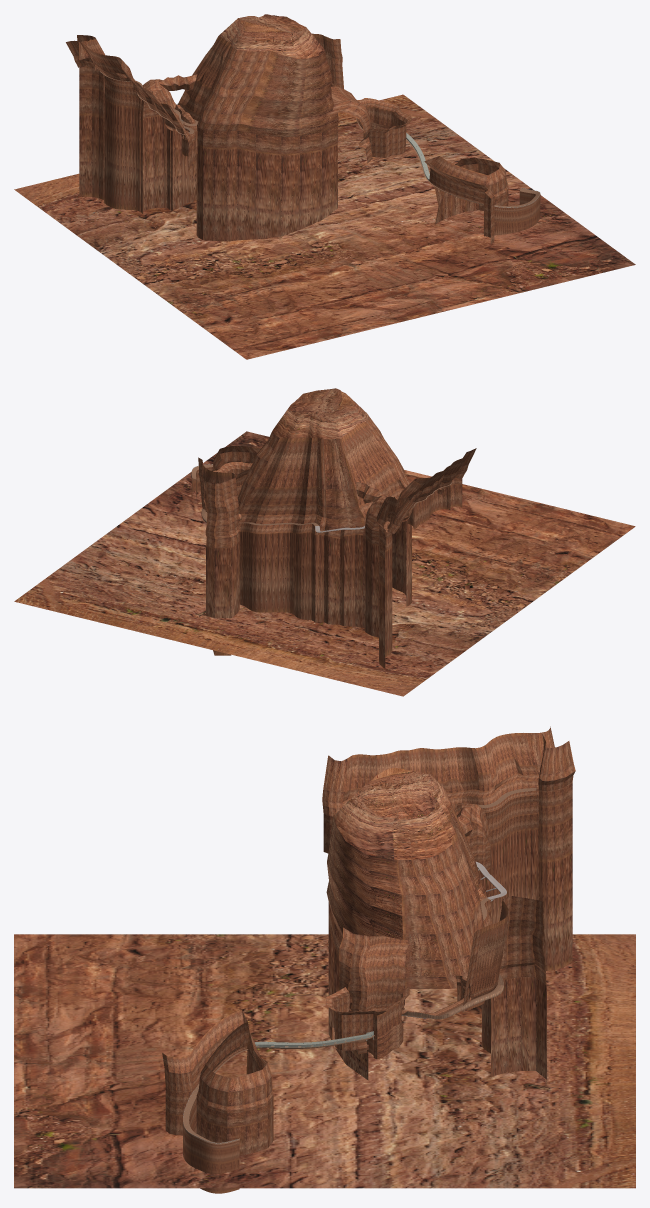
Rendered from CliffsideChaosTest.fbx.
3 renders of one model, top to bottom at view 1: azimuth 30°, elevation 25°; view 2: azimuth 150°, elevation 25°; view 3: azimuth 270°, elevation 25°, orthographic. The views are drawn at different scales.
Parts seen in each view (by area): view 1: Ground, Mountains; view 2: Ground, Mountains, track_part1; view 3: Ground, Mountains, track_part1, Tunnel.
Boxes of the visible parts, <box> form: Ground: <box>14,94,635,359</box>; Mountains: <box>66,14,540,244</box>; Ground: <box>14,431,635,696</box>; Mountains: <box>191,388,476,668</box>; track_part1: <box>201,482,451,532</box>; Ground: <box>14,934,635,1188</box>; Mountains: <box>162,726,575,1193</box>; track_part1: <box>401,788,536,1019</box>; Tunnel: <box>254,1031,373,1047</box>.
Bounding box in the file's own units: 7411 × 4226 × 7669.
